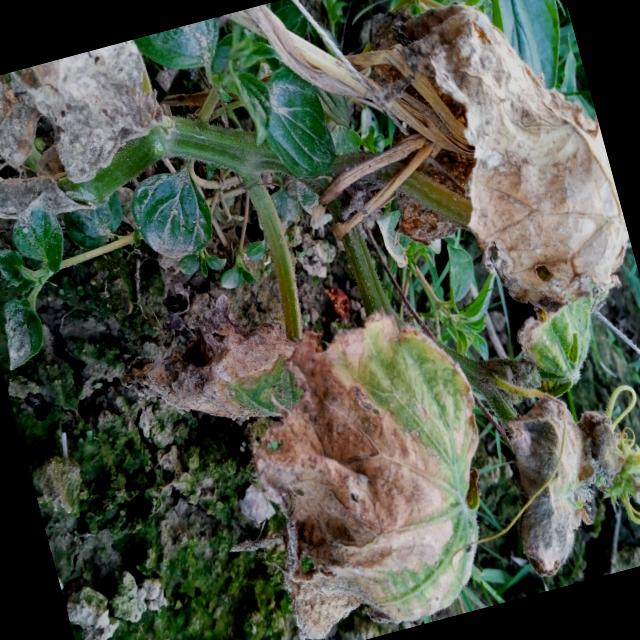cucumber_bacterial: (223, 362, 511, 640), (398, 0, 634, 299), (488, 385, 636, 591), (0, 33, 181, 181)
